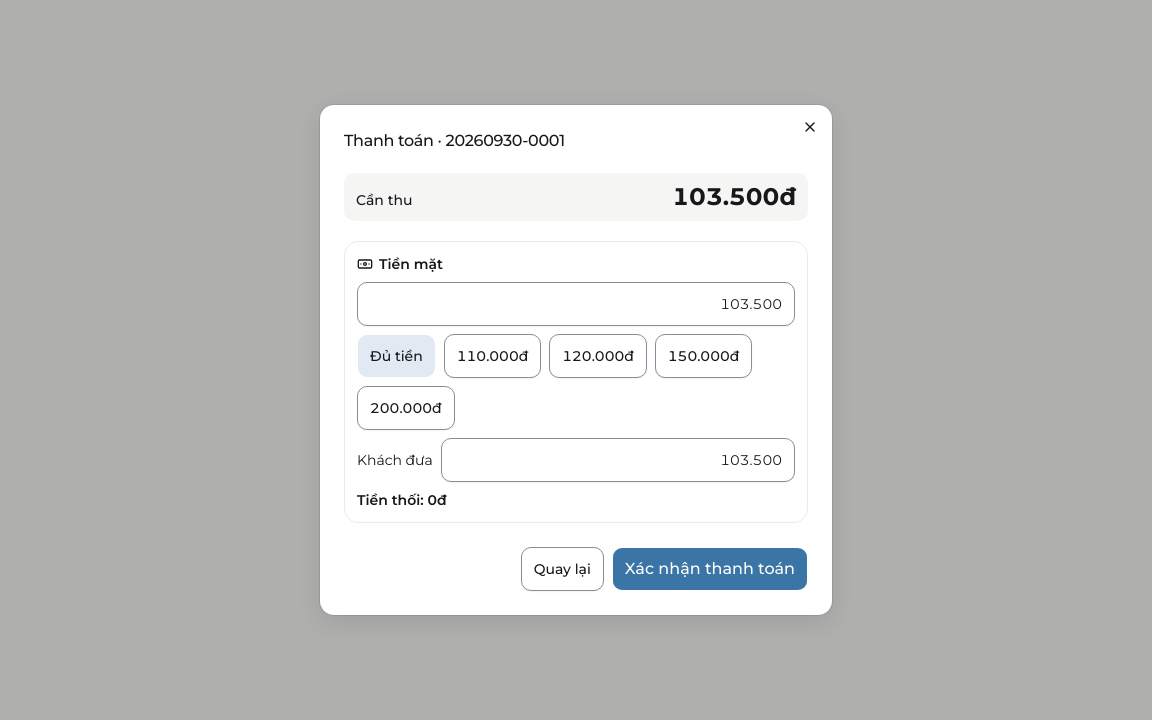
Test: PosPaymentDialog › tiền khách đưa thiếu → chặn xác nhận
The width and height of the screenshot is (1152, 720).
Replace the text in the field next to "Khách đưa" with "50000": (618, 460) [441, 438, 795, 482]
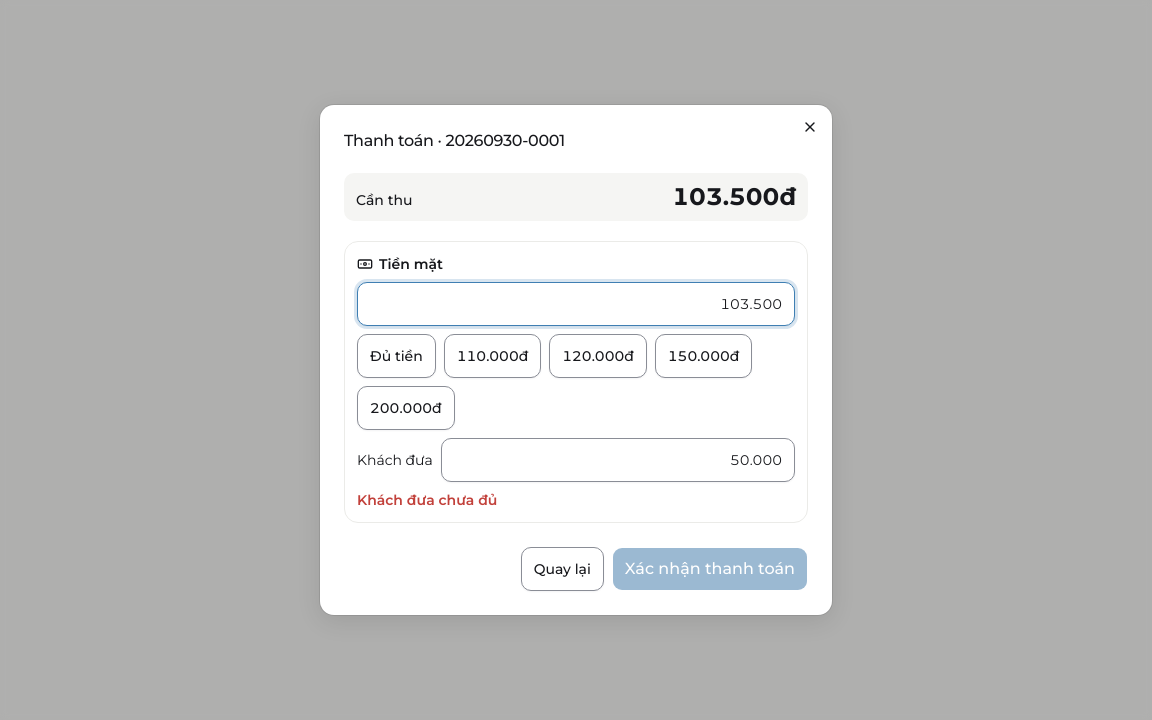
Now the text "Khách đưa chưa đủ" is shown, box [357, 491, 497, 509]
Now the button "Xác nhận thanh toán" is disabled, box [612, 547, 808, 591]
